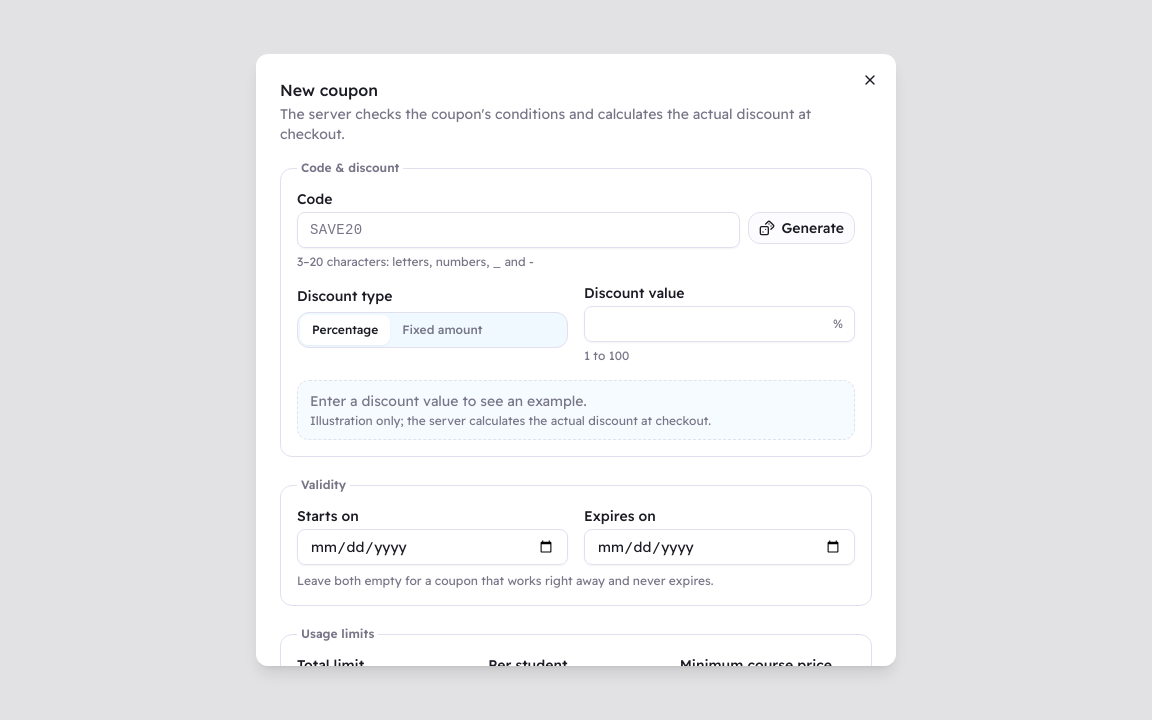
Test: CouponFormDialog › generates a code and shows a labelled example preview
Click the button "Generate" at (802, 228), box [748,212,855,244]
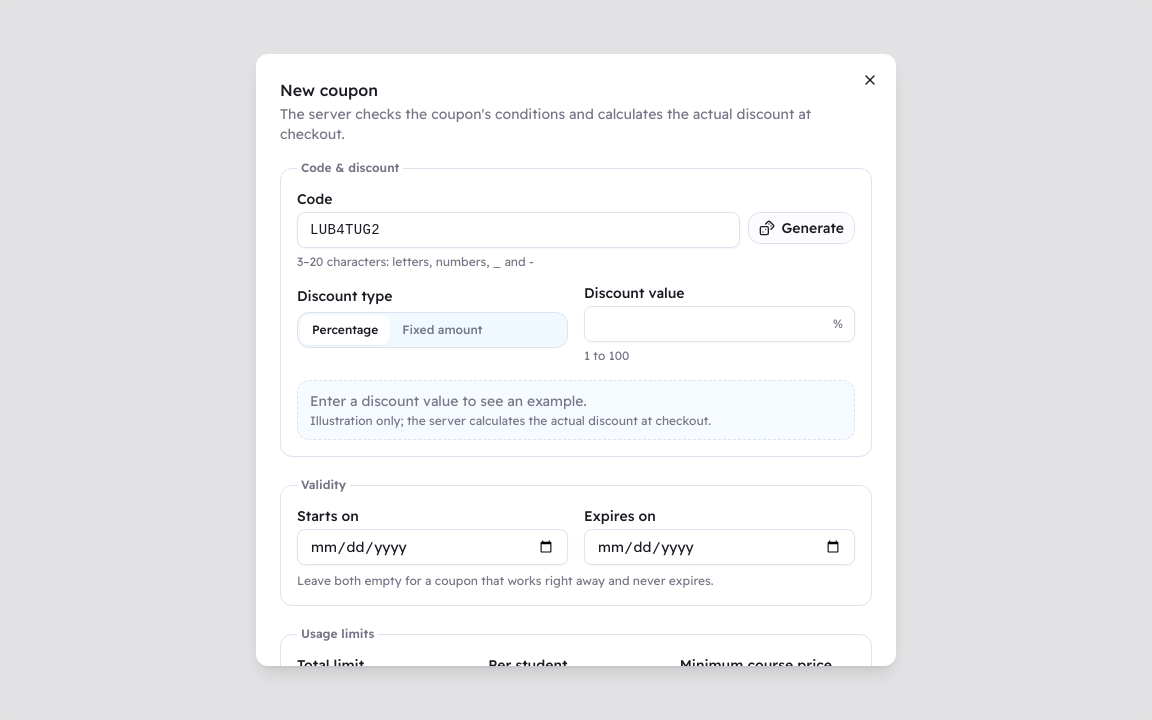
Check: the element with test id "coupon-example" shows "Enter a discount value", box [310,392,587,410]
Type "20" into the field labelled "Discount value" at (720, 324), box [584,306,855,342]
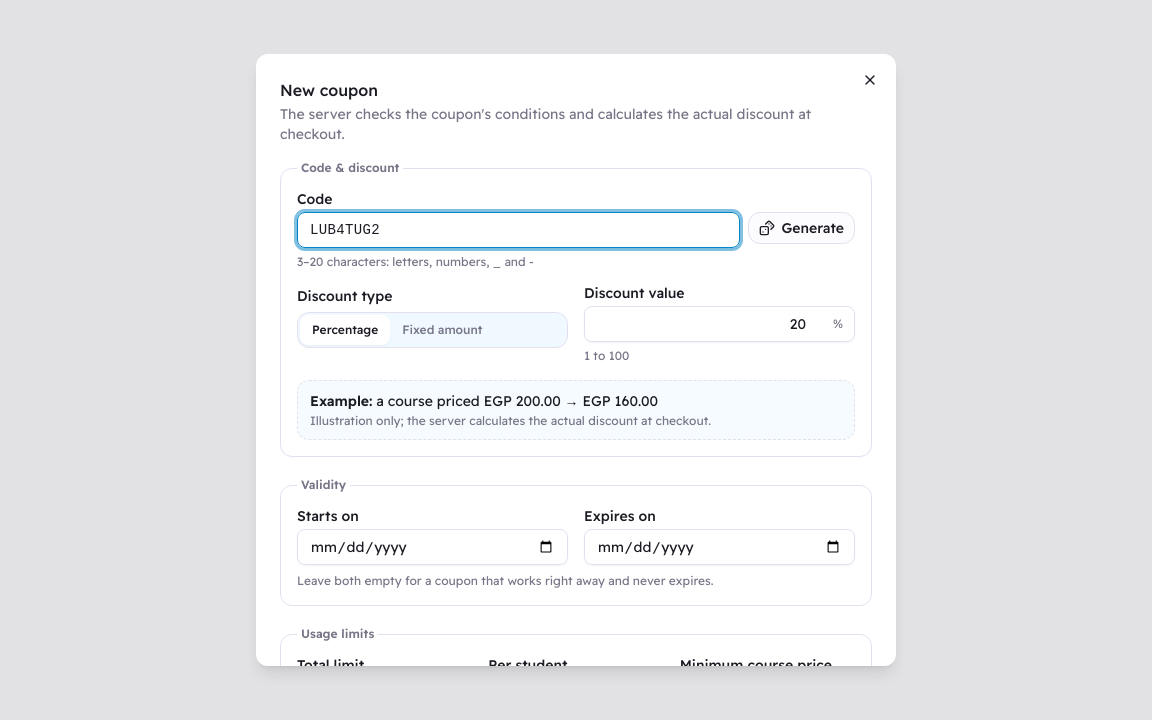
Check: the element with test id "coupon-example" shows "the server calculates the actual discount at checkout", box [310,413,711,428]
Check: the element with test id "coupon-example" shows "Example:", box [310,392,372,410]
Check: the element with test id "coupon-example" shows "a course priced EGP 200.00 → EGP 160.00", box [376,392,658,410]
